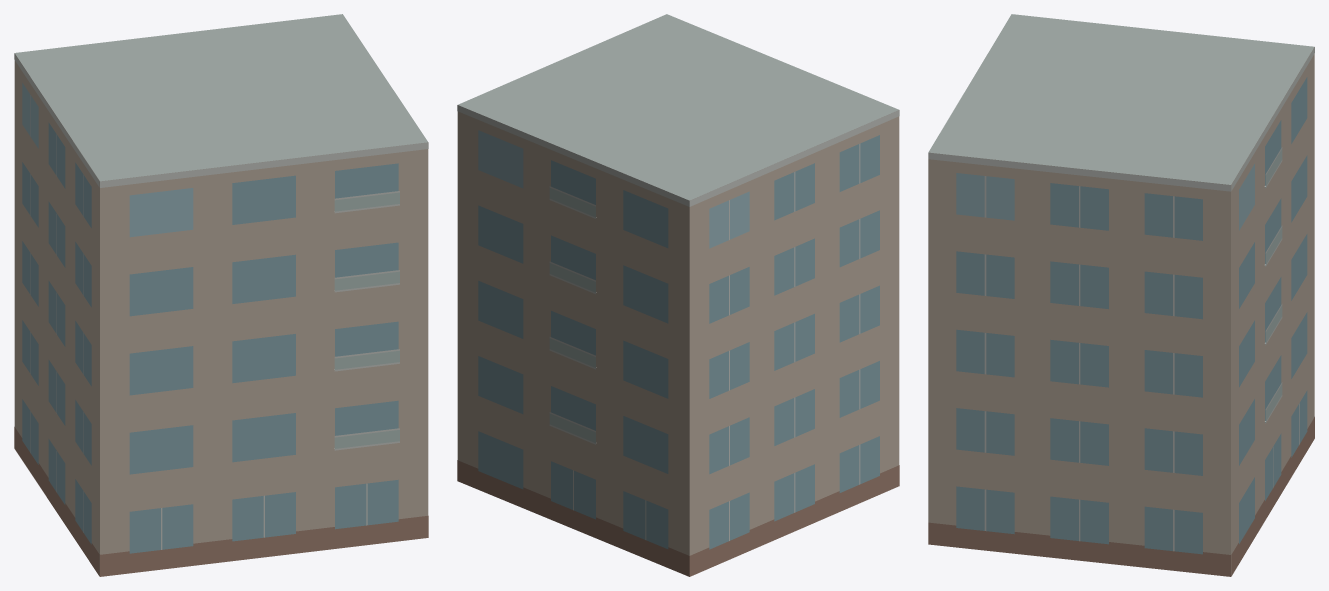
The model's file is survey-upis-32871948.glb.
3 views of the same model, side by side, from view 1: azimuth 30°, elevation 25°; view 2: azimuth 150°, elevation 25°; view 3: azimuth 270°, elevation 25° (orthographic). The views are drawn at different scales.
Visible parts, largest first — view 1: survey-upis-32871948.tmp; view 2: survey-upis-32871948.tmp; view 3: survey-upis-32871948.tmp.
Boxes of the visible parts, bbox=[...] form: survey-upis-32871948.tmp: bbox=[14, 14, 428, 576]; survey-upis-32871948.tmp: bbox=[457, 14, 899, 576]; survey-upis-32871948.tmp: bbox=[928, 14, 1314, 576].
Size of the model in its own units: 13.49 by 14.4 by 12.88.
